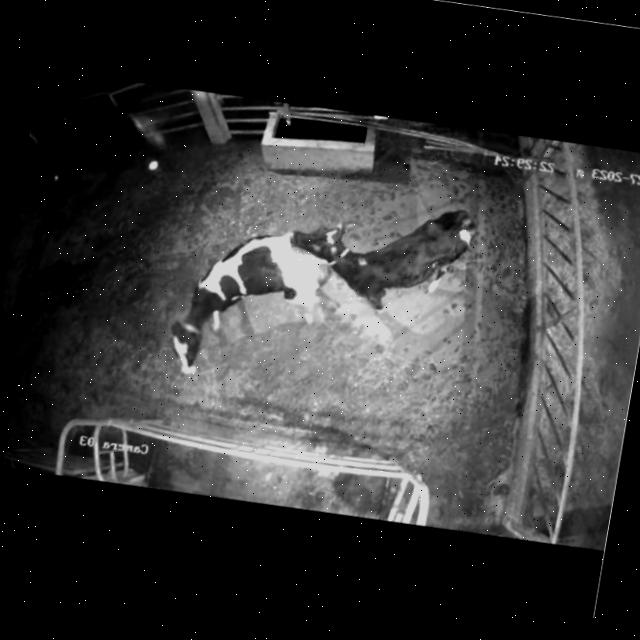propping: (259, 199, 381, 315)
stand: (144, 194, 346, 407)
